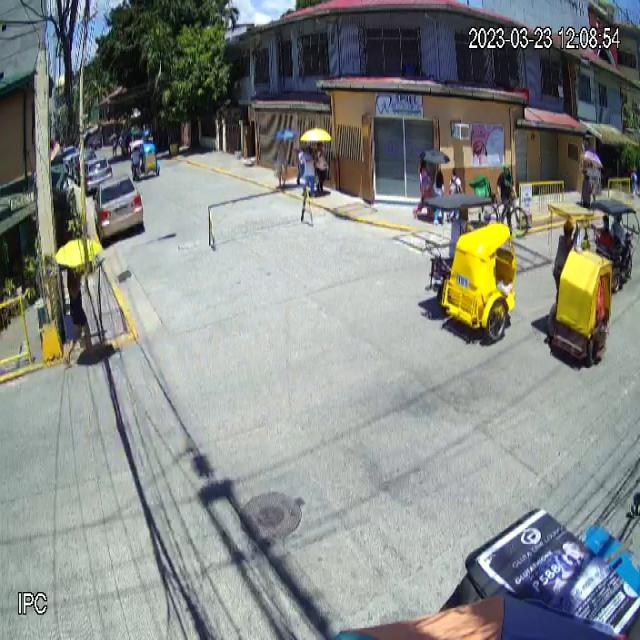Tricycle: (421, 191, 519, 346)
